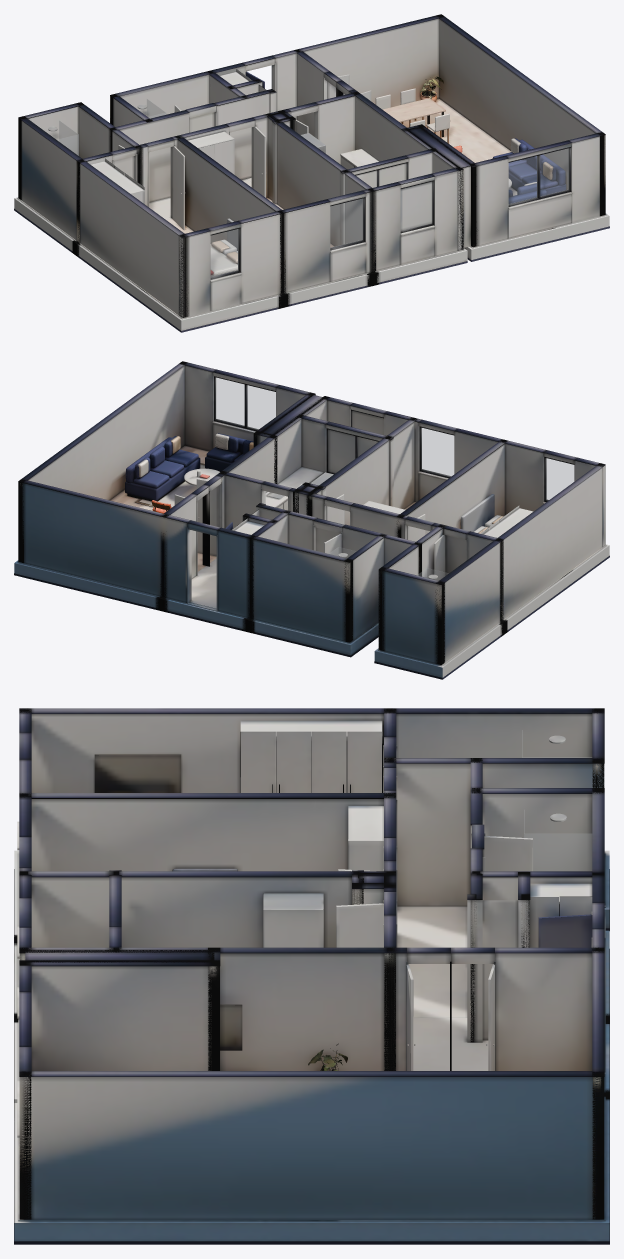
The picture shows the model from 3 angles, top to bottom: view 1: azimuth 30°, elevation 25°; view 2: azimuth 150°, elevation 25°; view 3: azimuth 270°, elevation 25°; orthographic projection. The views are drawn at different scales.
Parts seen in each view (by area): view 1: plan, glass0_m, glass2_m, glass1_m, glass3_m; view 2: plan, glass0_m, glass2_m, glass4_m, glass3_m; view 3: plan, sg.002_m.
Part boxes in pixels (box(x1,y1,x2,y2)): plan: box(14, 14, 609, 332); glass0_m: box(509, 148, 569, 204); glass2_m: box(330, 199, 363, 247); glass1_m: box(401, 182, 431, 230); glass3_m: box(211, 229, 238, 277); plan: box(14, 361, 609, 679); glass0_m: box(215, 378, 275, 429); glass2_m: box(421, 428, 453, 476); glass4_m: box(328, 430, 376, 472); glass3_m: box(546, 458, 573, 499); plan: box(14, 708, 609, 1244); sg.002_m: box(524, 834, 591, 870).
Bounding box in the file's own units: 12.6 × 2.62 × 8.52.
Materials: 2 (1 with a texture image).
